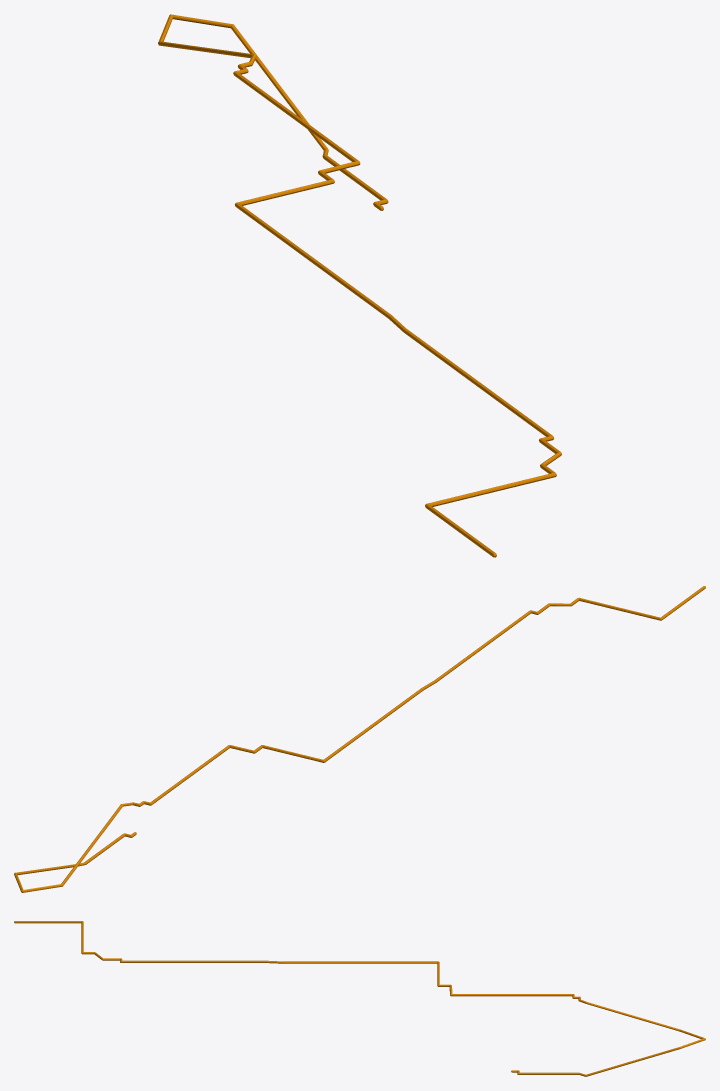
3 views of the same model, one above another, from view 1: azimuth 30°, elevation 25°; view 2: azimuth 150°, elevation 25°; view 3: azimuth 270°, elevation 25° (orthographic). The views are drawn at different scales.
Bounding box in the file's own units: 1918 × 520 × 5653.
